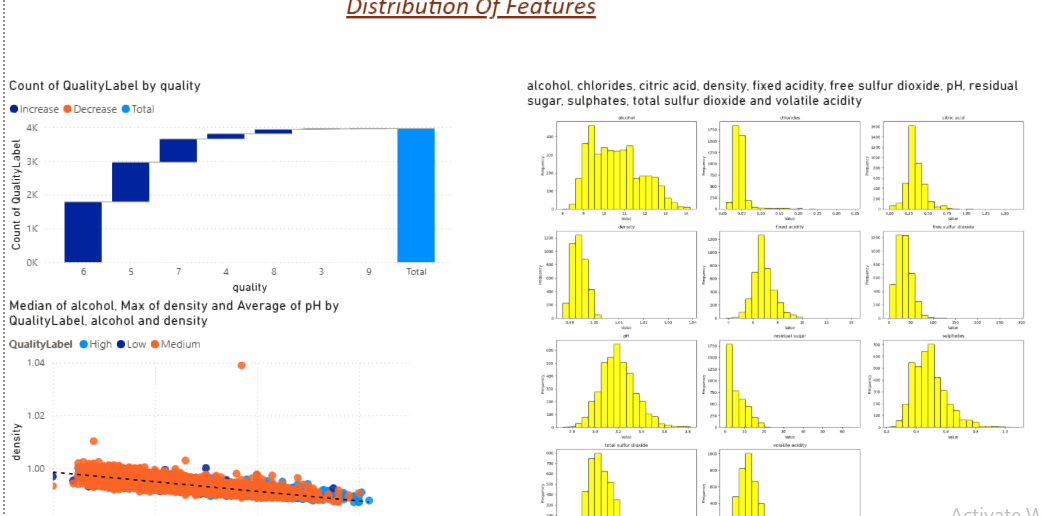

The page's visual inventory and layout, read from the dashboard file:
{"tool":"powerbi","page":{"name":"Page 3","canvas":[1280,720],"ordinal":2},"visuals":[{"type":"scatterChart","fields":{"X":["WHITE_WINE.alcohol"],"Y":["WHITE_WINE.density"],"Series":["WHITE_WINE.QualityLabel"]},"box":[0,400,512,320],"z":0},{"type":"waterfallChart","fields":{"Category":["WHITE_WINE.quality","WHITE_WINE.density"],"Y":["CountNonNull(WHITE_WINE.QualityLabel)"]},"box":[0,128,560,272],"z":1000},{"type":"pythonVisual","fields":{"Values":["WHITE_WINE.alcohol","WHITE_WINE.chlorides","WHITE_WINE.citric acid","WHITE_WINE.density","WHITE_WINE.fixed acidity","WHITE_WINE.free sulfur dioxide","WHITE_WINE.pH","WHITE_WINE.residual sugar","WHITE_WINE.sulphates","WHITE_WINE.total sulfur dioxide","WHITE_WINE.volatile acidity"]},"box":[640,128,640,592],"z":2000},{"type":"textbox","box":[416,16,352,64],"z":3000}]}

Visuals, with their boxes on the page's 1280x720 design canvas (x1, y1, x2, y2). These are canvas units, not pixel positions in the 1041x516 screenshot, which may show the page scaled, cropped or inside an application window:
scatterChart - WHITE_WINE.alcohol x WHITE_WINE.density: <box>0,400,512,720</box>
waterfallChart - WHITE_WINE.quality x WHITE_WINE.density: <box>0,128,560,400</box>
pythonVisual - WHITE_WINE.alcohol x WHITE_WINE.chlorides: <box>640,128,1280,720</box>
textbox: <box>416,16,768,80</box>
